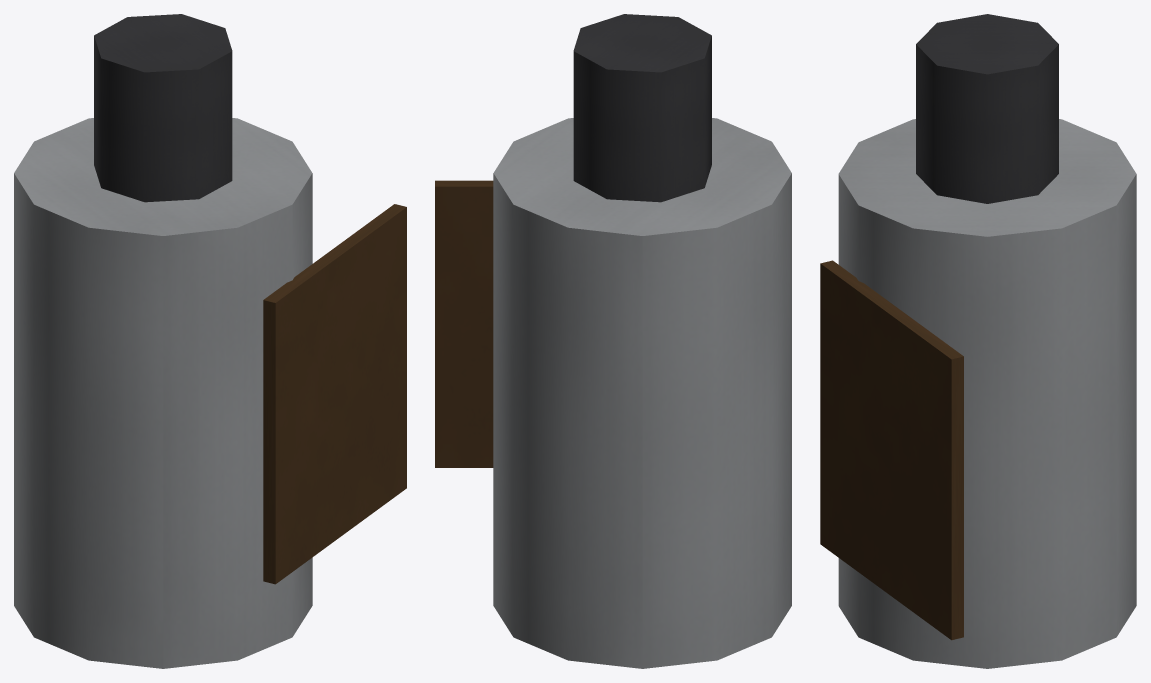
Rendered from OB_Film.fbx.
The picture shows the model from 3 angles, left to right: view 1: azimuth 30°, elevation 25°; view 2: azimuth 150°, elevation 25°; view 3: azimuth 270°, elevation 25°; orthographic projection.
Visible parts, largest first — view 1: Film; view 2: Film; view 3: Film.
Part boxes in pixels (bbox=[...]): Film: bbox=[14, 14, 406, 668]; Film: bbox=[435, 14, 791, 668]; Film: bbox=[820, 14, 1136, 668].
Bounding box in the file's own units: 0.0343 × 0.052 × 0.0265.
